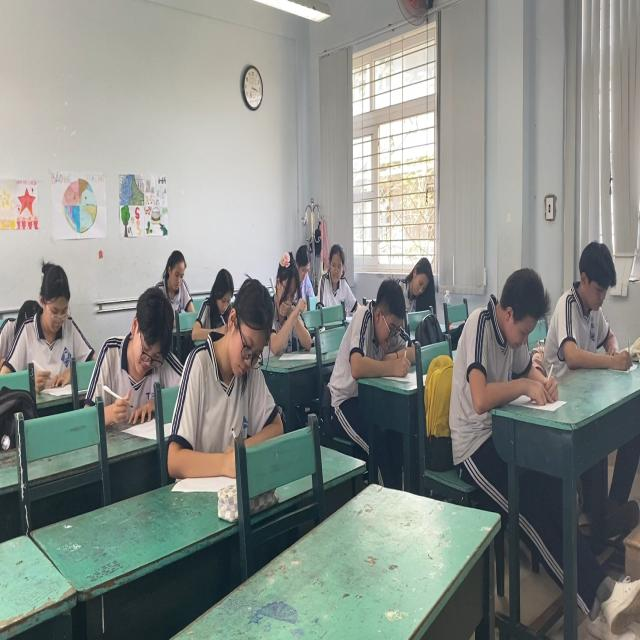not_cheating: (185, 284, 278, 446), (463, 268, 557, 409), (90, 287, 193, 395), (561, 239, 636, 374), (16, 254, 96, 377), (343, 271, 403, 377), (269, 250, 308, 350), (396, 236, 440, 316), (154, 250, 197, 315), (318, 240, 354, 309)
